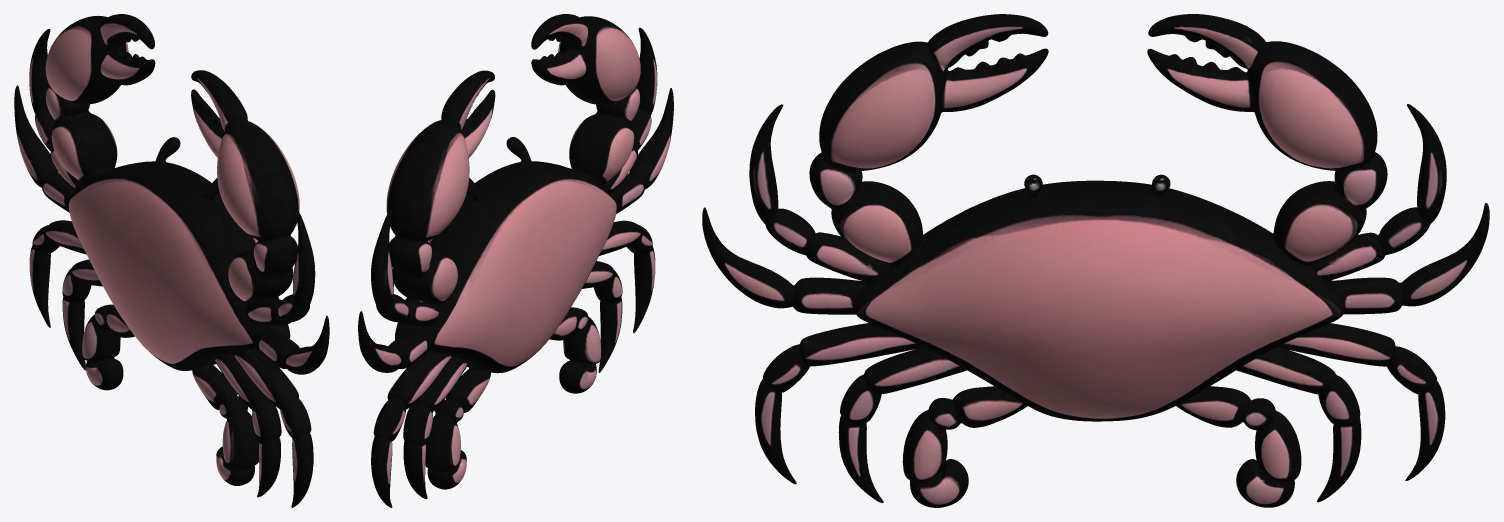
The model's file is pink-crab.glb.
3 renders of one model, left to right at view 1: azimuth 30°, elevation 25°; view 2: azimuth 150°, elevation 25°; view 3: azimuth 270°, elevation 25°, orthographic. The views are drawn at different scales.
Visible parts, largest first — view 1: tripo_node_e2c6ecfa-8036-430f-98a4-e18ae5b611d2; view 2: tripo_node_e2c6ecfa-8036-430f-98a4-e18ae5b611d2; view 3: tripo_node_e2c6ecfa-8036-430f-98a4-e18ae5b611d2.
Boxes of the visible parts, left/top/right/bottom form: tripo_node_e2c6ecfa-8036-430f-98a4-e18ae5b611d2: left=14, top=14, right=329, bottom=507; tripo_node_e2c6ecfa-8036-430f-98a4-e18ae5b611d2: left=358, top=14, right=673, bottom=507; tripo_node_e2c6ecfa-8036-430f-98a4-e18ae5b611d2: left=702, top=14, right=1489, bottom=507.
Size of the model in its own units: 0.1821 by 0.6881 by 0.9999.
Materials: 1 (1 with a texture image).
